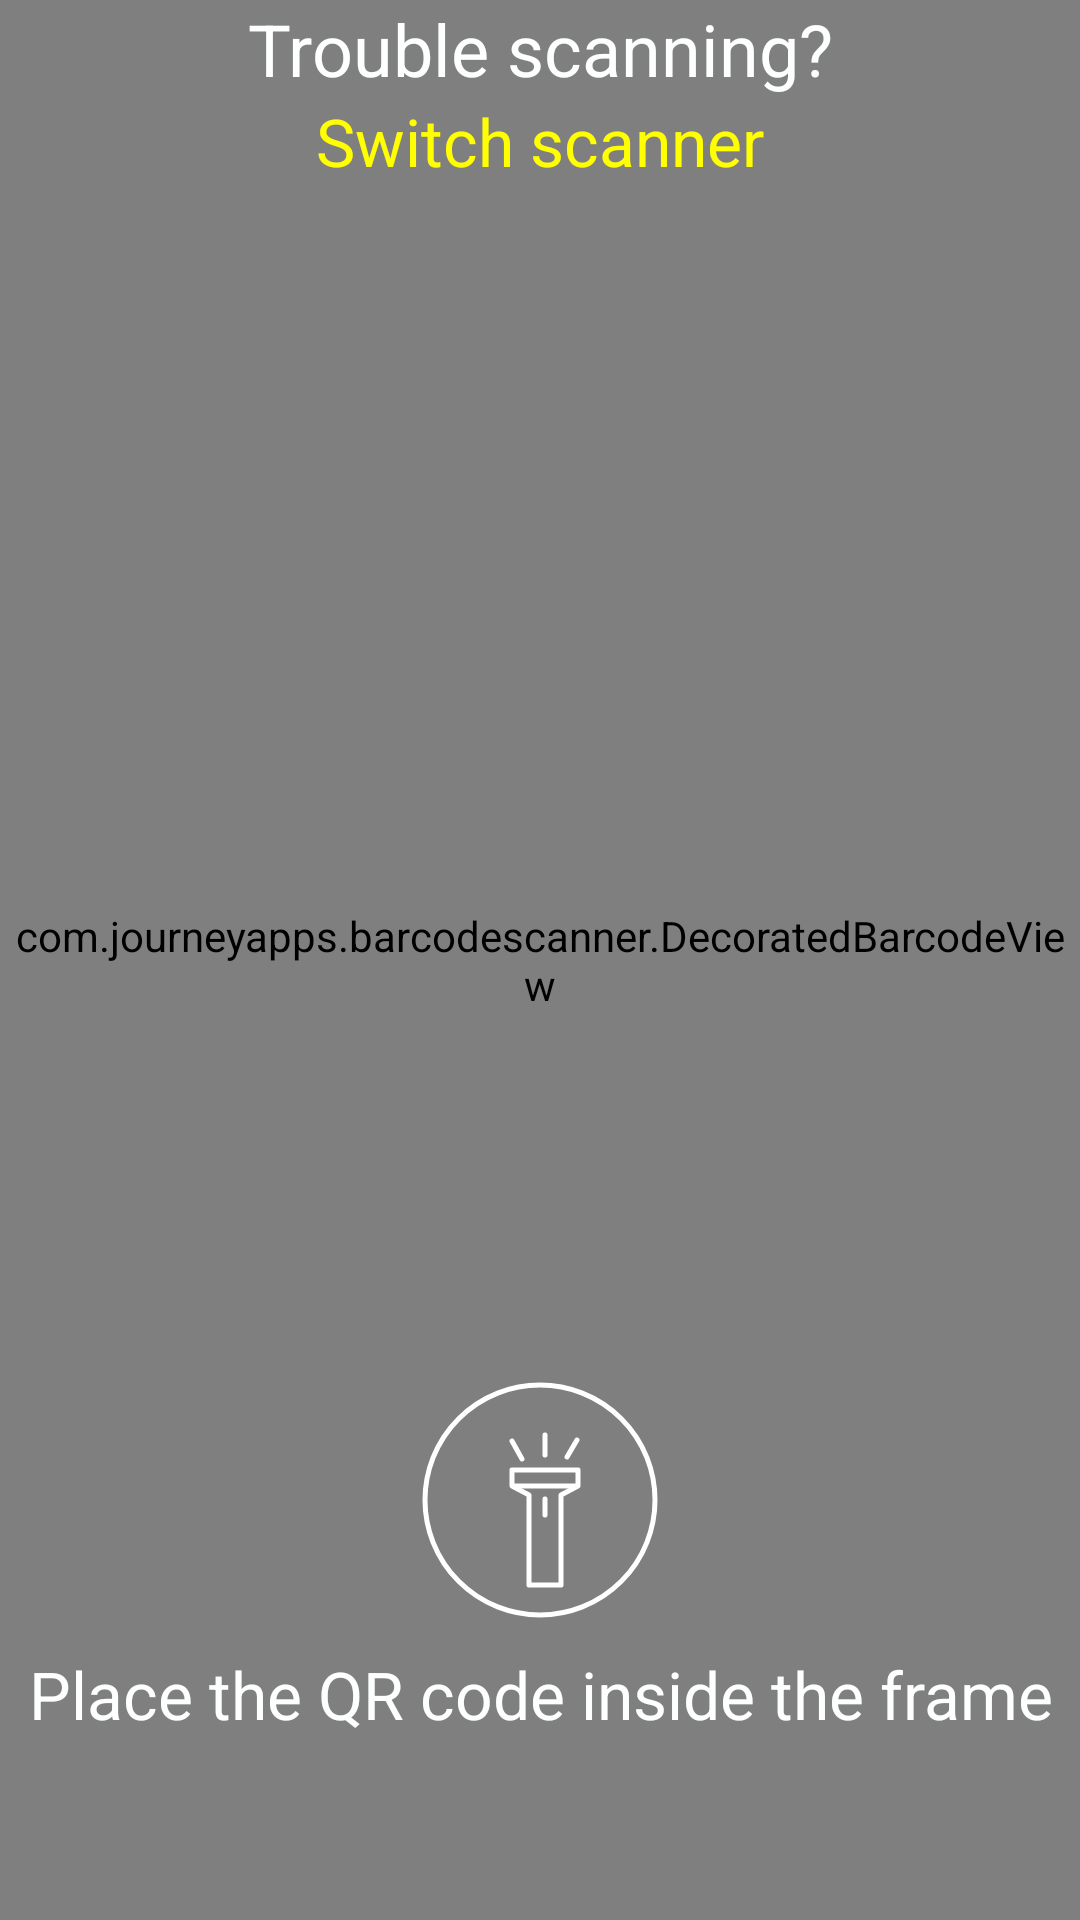

Where icons sit on this 1080px×1920px app screen, as BBox(x1, y1, x2, y2):
lantern: BBox(422, 1382, 658, 1618)
